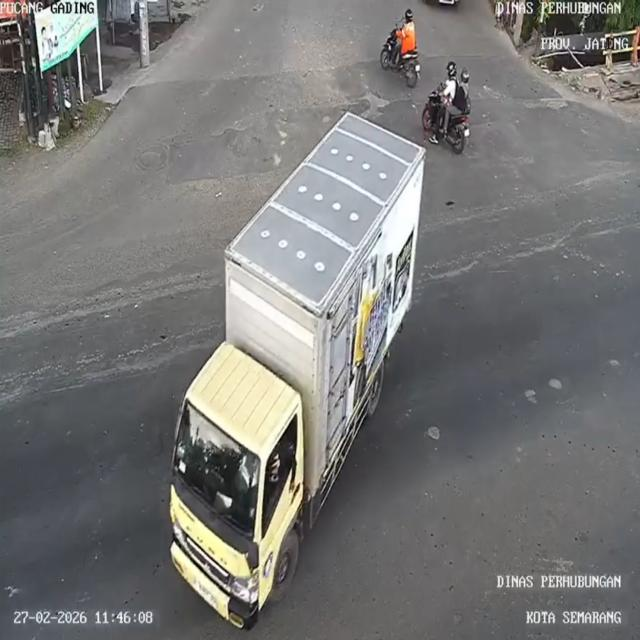motorcycle: (419, 90, 474, 158), (373, 31, 425, 90)
person: (438, 60, 458, 116), (452, 64, 472, 116), (399, 8, 417, 50)
rider_region: (421, 58, 477, 160), (377, 6, 428, 89)
